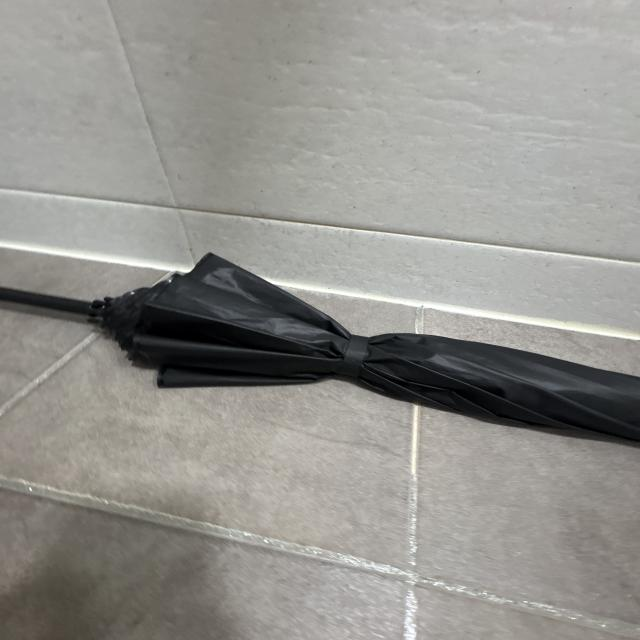umbrella: (0, 254, 640, 447)
